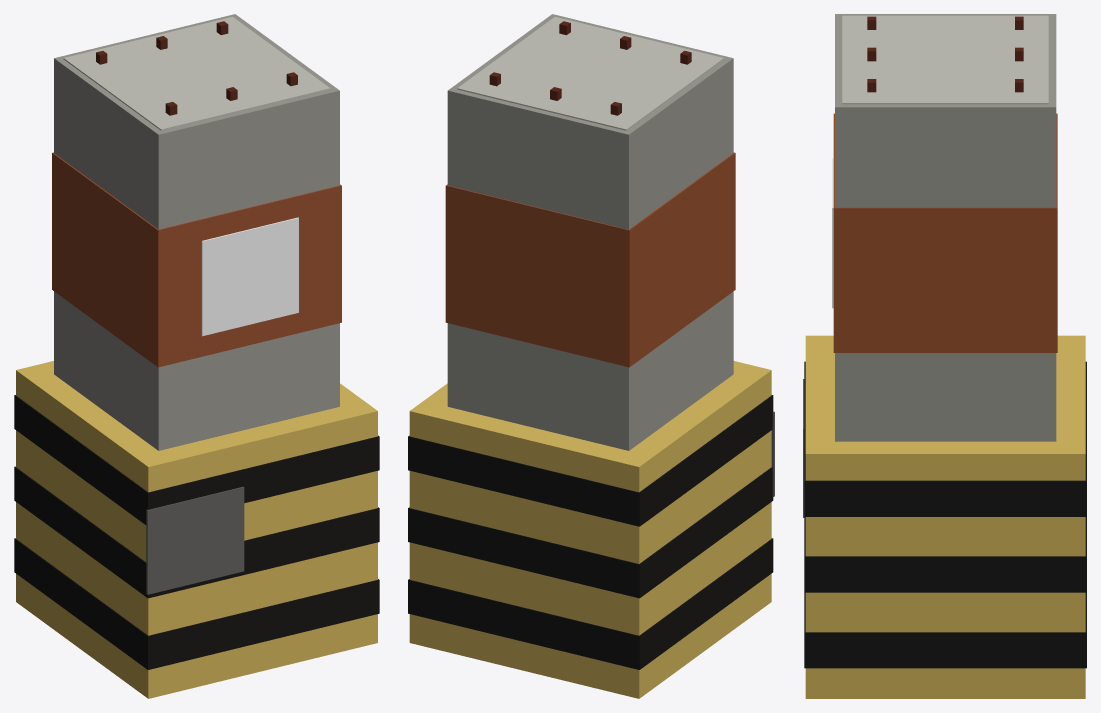
File: garage_column_b.glb
The picture shows the model from 3 angles, left to right: view 1: azimuth 30°, elevation 25°; view 2: azimuth 150°, elevation 25°; view 3: azimuth 270°, elevation 25°; orthographic projection. The views are drawn at different scales.
Visible parts, largest first — view 1: garage_column_b_conc, garage_column_b_must, garage_column_b_black, garage_column_b_rustp, garage_column_b_cut, garage_column_b_white, garage_column_b_conc_d, garage_column_b_rust; view 2: garage_column_b_must, garage_column_b_conc, garage_column_b_rustp, garage_column_b_black, garage_column_b_cut, garage_column_b_rust; view 3: garage_column_b_must, garage_column_b_conc, garage_column_b_rustp, garage_column_b_black, garage_column_b_cut, garage_column_b_rust.
Boxes of the visible parts, x1=… form: garage_column_b_conc: x1=54, y1=14, x2=339, y2=450; garage_column_b_must: x1=16, y1=361, x2=377, y2=698; garage_column_b_black: x1=14, y1=395, x2=379, y2=669; garage_column_b_rustp: x1=52, y1=152, x2=341, y2=367; garage_column_b_cut: x1=63, y1=16, x2=330, y2=130; garage_column_b_white: x1=201, y1=217, x2=298, y2=336; garage_column_b_conc_d: x1=146, y1=486, x2=244, y2=594; garage_column_b_rust: x1=96, y1=21, x2=297, y2=115; garage_column_b_must: x1=409, y1=361, x2=771, y2=698; garage_column_b_conc: x1=447, y1=14, x2=733, y2=450; garage_column_b_rustp: x1=445, y1=152, x2=735, y2=367; garage_column_b_black: x1=408, y1=395, x2=773, y2=669; garage_column_b_cut: x1=457, y1=17, x2=723, y2=130; garage_column_b_rust: x1=489, y1=21, x2=691, y2=115; garage_column_b_must: x1=805, y1=335, x2=1085, y2=698; garage_column_b_conc: x1=835, y1=14, x2=1056, y2=441; garage_column_b_rustp: x1=833, y1=113, x2=1057, y2=352; garage_column_b_black: x1=804, y1=361, x2=1086, y2=668; garage_column_b_cut: x1=842, y1=15, x2=1048, y2=104; garage_column_b_rust: x1=867, y1=16, x2=1023, y2=92.
Bounding box in the file's own units: 1.15 × 2.65 × 1.15.
